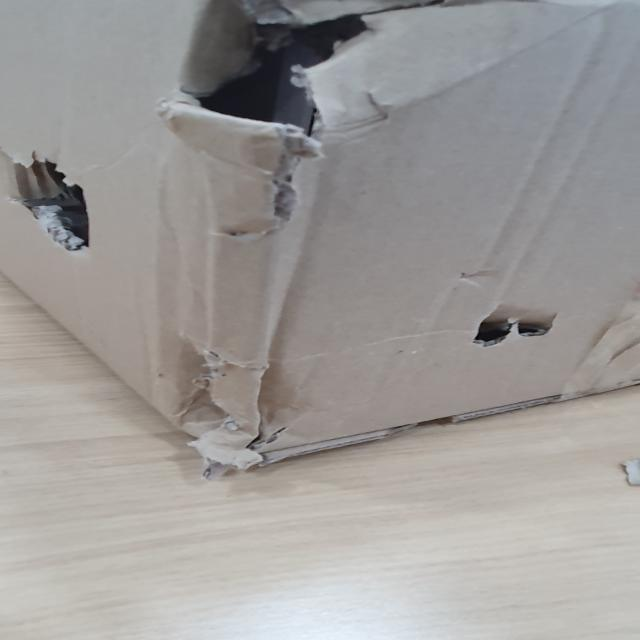hole: (179, 5, 399, 143), (157, 300, 314, 467), (6, 154, 110, 256), (465, 307, 570, 347)
